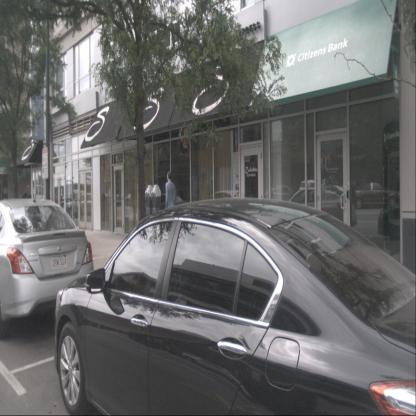human-pedestrian-adult: (165, 170, 177, 243), (22, 184, 33, 236)
vehicle-car: (52, 199, 416, 416), (0, 197, 94, 341), (352, 182, 401, 210)
